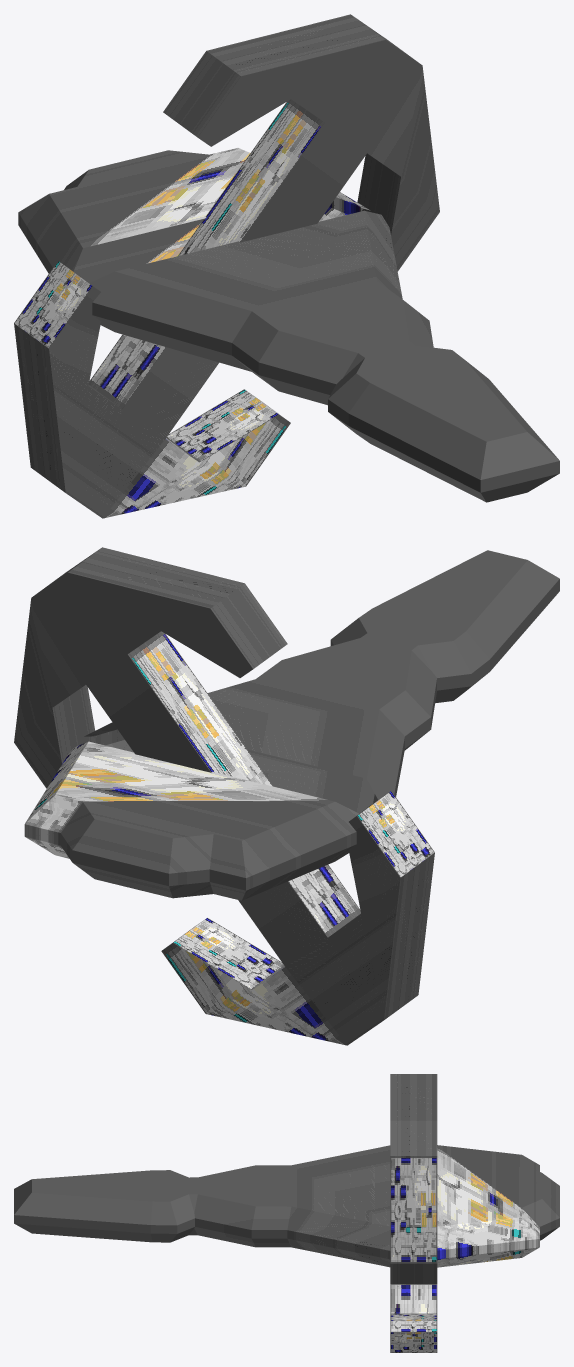
The model's file is aliensh4.obj.
3 views of the same model, one above another, from view 1: azimuth 30°, elevation 25°; view 2: azimuth 150°, elevation 25°; view 3: azimuth 270°, elevation 25° (orthographic). The views are drawn at different scales.
Bounding box in the file's own units: 1.33 × 1.34 × 2.38.
Materials: 1 (1 with a texture image).
